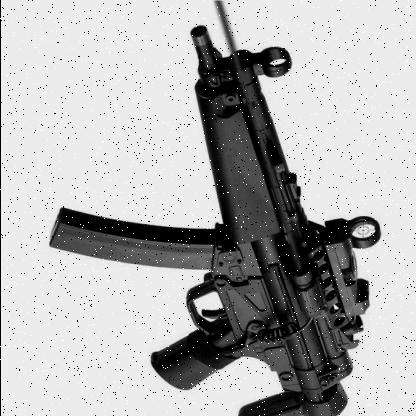rifle: (52, 18, 402, 410)
